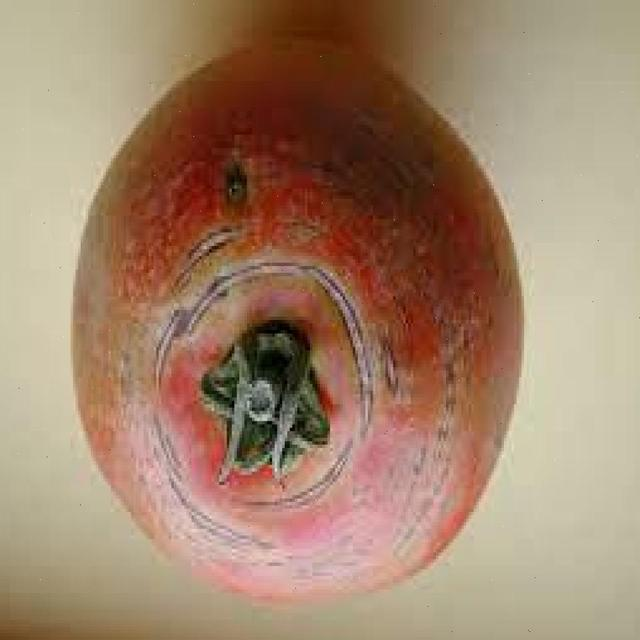Cracking Fruit: (37, 51, 283, 353)
